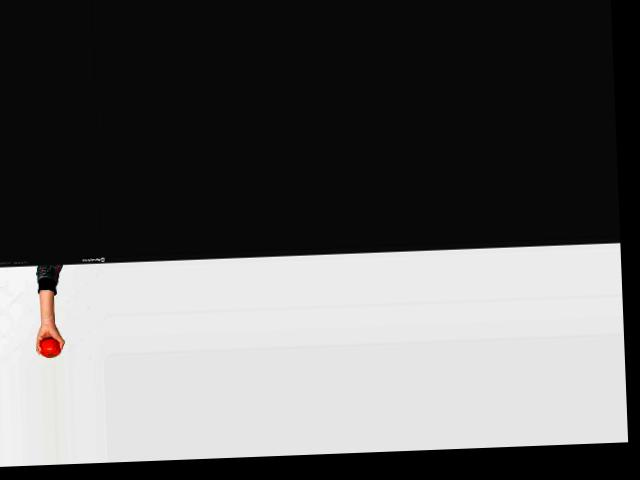tomato: (39, 337, 61, 358)
